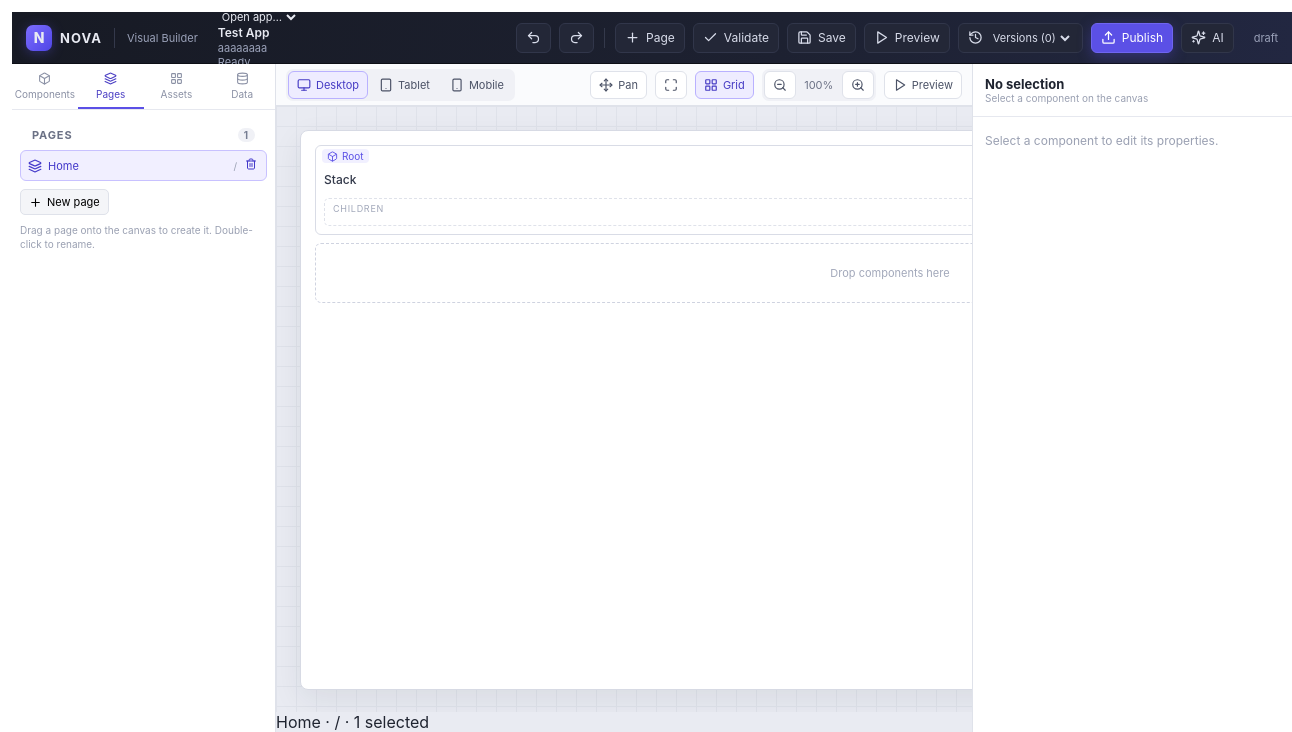
editor palette and tree › saves the current definition through the control plane client
Click the button "Save": click(821, 38) [787, 22, 856, 52]
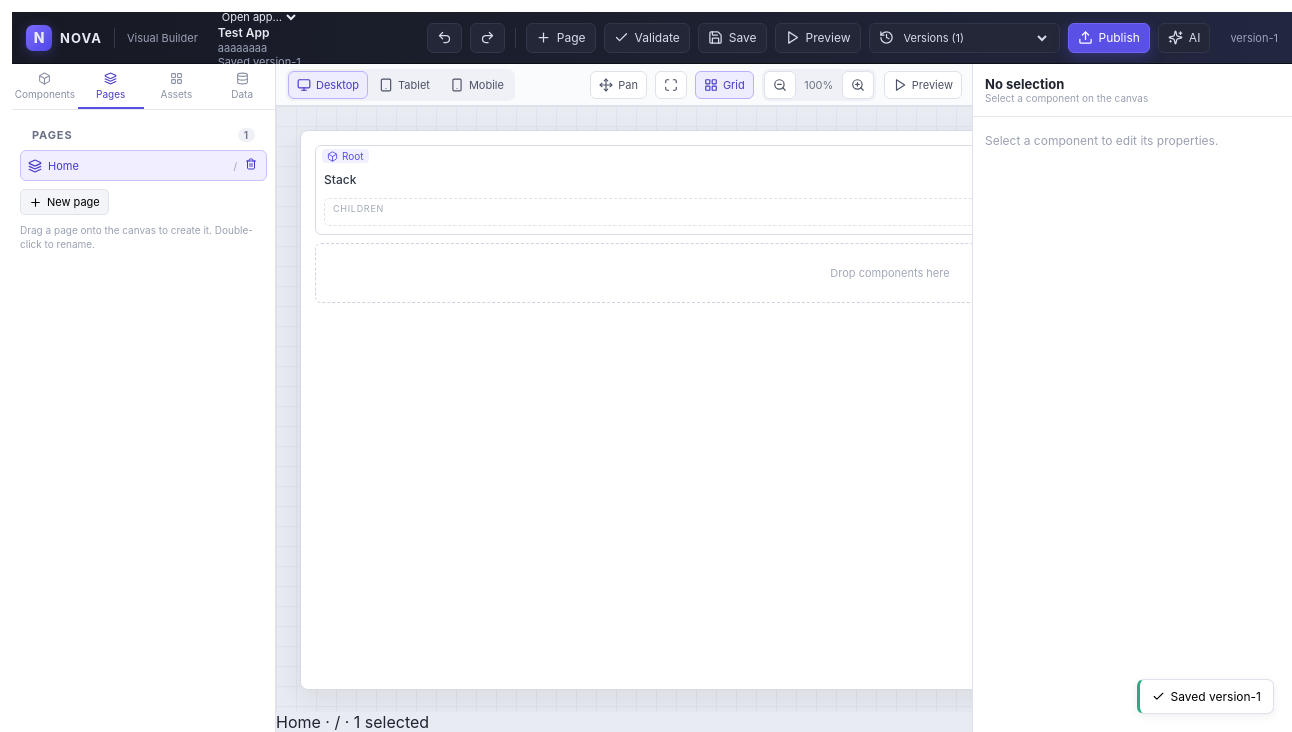
Check: the text "Saved version-1" is shown, box [218, 56, 301, 69]
